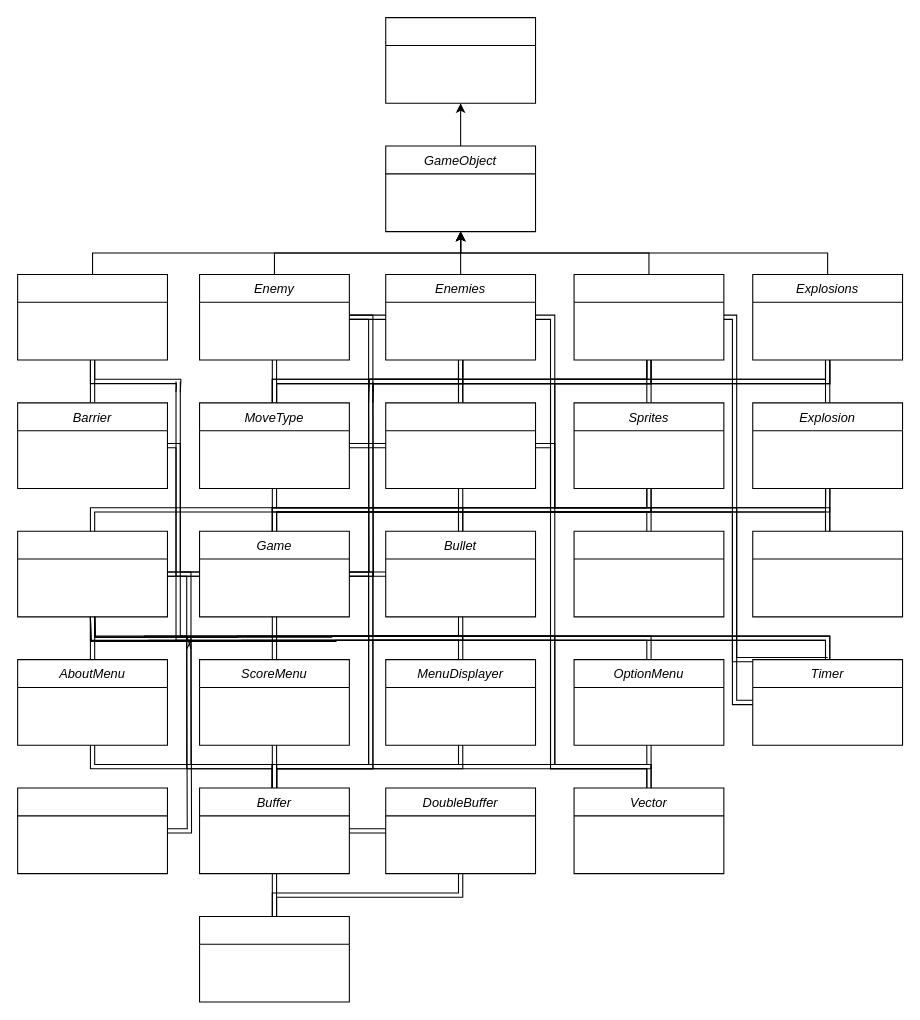
This 920x1020 diagram has some shape labels left out. The centre of each missing label's shape, as x and y in pixels:
"Barriers" goes at [92,316].
"Bullets" goes at [460,445].
"ExplosionType" goes at [827,573].
"IGameObject" goes at [460,60].
"Menu" goes at [92,573].
"NumberManager" goes at [648,573].
"Pixel" goes at [273,958].
"Program" goes at [92,830].
"Ship" goes at [648,316].
